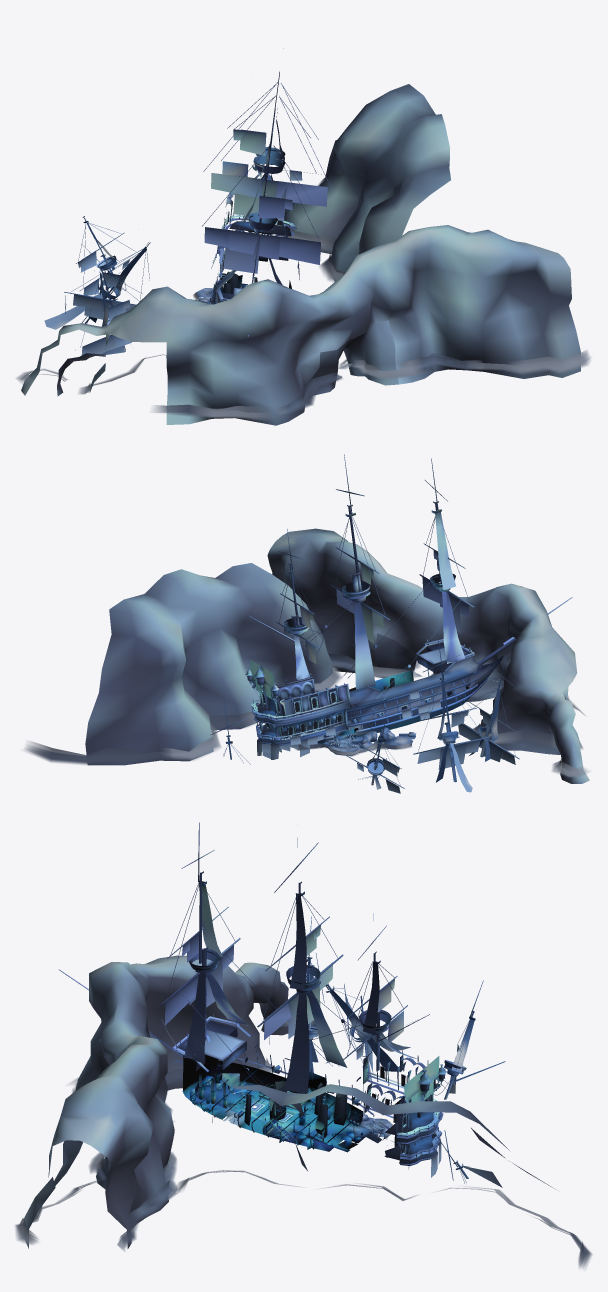
File: 06GhostShip.gltf
3 renders of one model, top to bottom at view 1: azimuth 30°, elevation 25°; view 2: azimuth 150°, elevation 25°; view 3: azimuth 270°, elevation 25°, orthographic. The views are drawn at different scales.
Parts seen in each view (by area): view 1: stg050_o26_Mesh_0015, stg050_p26_Mesh_0001, stg050_shibuki_a_45_Mesh_0003, stg050_shibuki_a_45_Mesh_0004, stg050_p26_Mesh_0000, stg050_o26_Mesh_0001, stg050_a45_Mesh_0000, stg050_o26_Mesh_0003; view 2: stg050_o26_Mesh_0015, stg050_o26_Mesh_0001, stg050_p26_Mesh_0000, stg050_shibuki_a_45_Mesh_0003, stg050_p26_Mesh_0001, stg050_o26_Mesh_0005, stg050_shibuki_a_45_Mesh_0004, stg050_o26_Mesh_0002, stg050_o26_Mesh_0003, stg050_p26_Mesh_0002, stg050_a45_Mesh_0000, stg050_o26_Mesh_0017 (+2 smaller); view 3: stg050_o26_Mesh_0015, stg050_p26_Mesh_0000, stg050_o26_Mesh_0001, stg050_o26_Mesh_0017, stg050_p26_Mesh_0001, stg050_shibuki_a_45_Mesh_0003, stg050_o26_Mesh_0002, stg050_shibuki_a_45_Mesh_0004, stg050_o26_Mesh_0003, stg050_g26_Mesh_0001, stg050_o26_Mesh_0005, stg050_o26_Mesh_0018 (+1 smaller).
Part boxes in pixels (x1,y1,x2,y2): stg050_o26_Mesh_0015: (21,84,580,425); stg050_p26_Mesh_0001: (73,129,327,355); stg050_shibuki_a_45_Mesh_0003: (15,178,590,420); stg050_shibuki_a_45_Mesh_0004: (21,220,590,416); stg050_p26_Mesh_0000: (44,108,287,329); stg050_o26_Mesh_0001: (64,48,321,351); stg050_a45_Mesh_0000: (302,307,410,384); stg050_o26_Mesh_0003: (65,82,331,350); stg050_o26_Mesh_0015: (85,528,589,783); stg050_o26_Mesh_0001: (210,454,572,788); stg050_p26_Mesh_0000: (283,512,500,792); stg050_shibuki_a_45_Mesh_0003: (25,660,589,776); stg050_p26_Mesh_0001: (284,550,515,793); stg050_o26_Mesh_0005: (255,588,503,744); stg050_shibuki_a_45_Mesh_0004: (29,653,585,777); stg050_o26_Mesh_0002: (251,579,491,775); stg050_o26_Mesh_0003: (223,513,515,785); stg050_p26_Mesh_0002: (257,690,441,759); stg050_a45_Mesh_0000: (368,614,479,701); stg050_o26_Mesh_0017: (330,643,469,740); stg050_o26_Mesh_0015: (24,955,555,1248); stg050_p26_Mesh_0000: (184,881,474,1131); stg050_o26_Mesh_0001: (59,822,505,1180); stg050_o26_Mesh_0017: (176,1021,381,1151); stg050_p26_Mesh_0001: (165,925,458,1130); stg050_shibuki_a_45_Mesh_0003: (15,1016,592,1268); stg050_o26_Mesh_0002: (176,961,465,1165); stg050_shibuki_a_45_Mesh_0004: (16,1021,583,1266); stg050_o26_Mesh_0003: (161,883,470,1183); stg050_g26_Mesh_0001: (244,1081,347,1137); stg050_o26_Mesh_0005: (199,989,458,1164); stg050_o26_Mesh_0018: (181,1027,421,1151).
Size of the model in its own units: 519 by 303 by 467.
